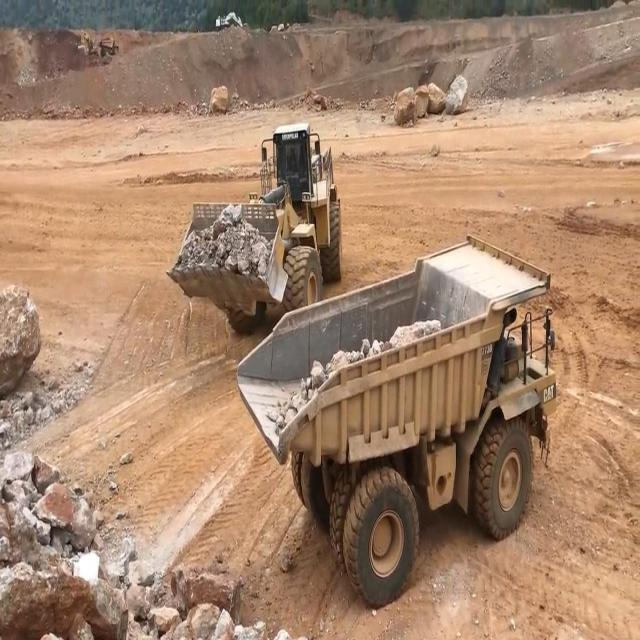Camion volquete: (232, 227, 562, 617)
Excavadora: (215, 12, 243, 30)
pala cargadora: (166, 119, 344, 349)
